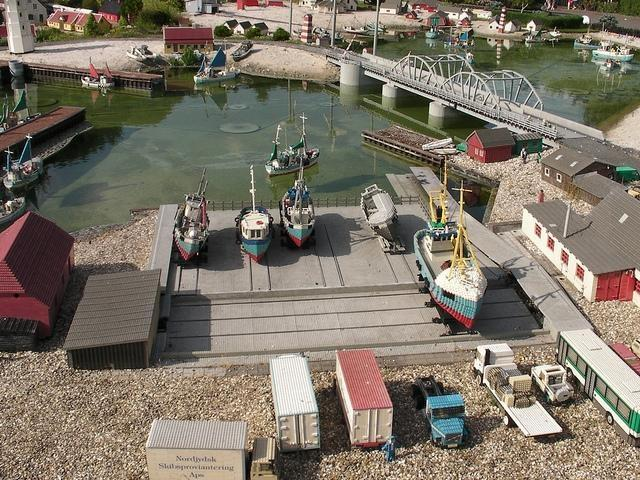bus: (553, 326, 640, 450)
truck: (470, 340, 564, 438), (145, 419, 284, 480), (334, 348, 395, 448), (270, 356, 321, 452), (409, 376, 468, 448), (528, 362, 578, 406)
